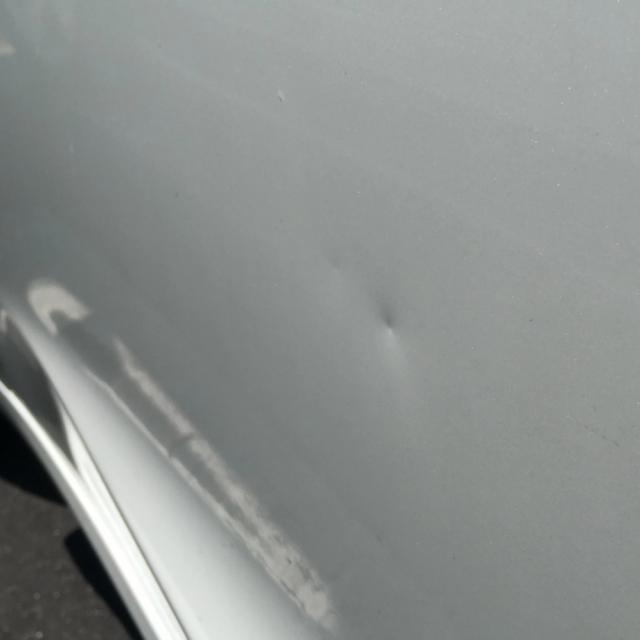dents: (342, 278, 467, 395)
